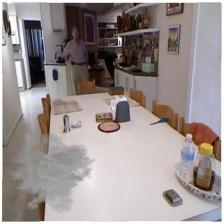fire: (2, 132, 97, 214)
